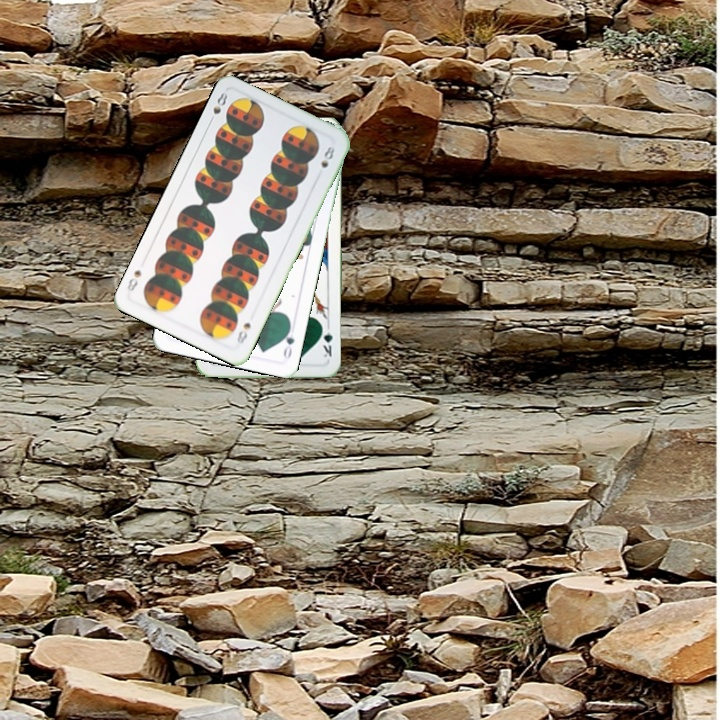GK: (318, 321, 335, 360)
GO: (279, 321, 297, 361)
S8: (205, 88, 230, 126), (233, 318, 254, 347)
